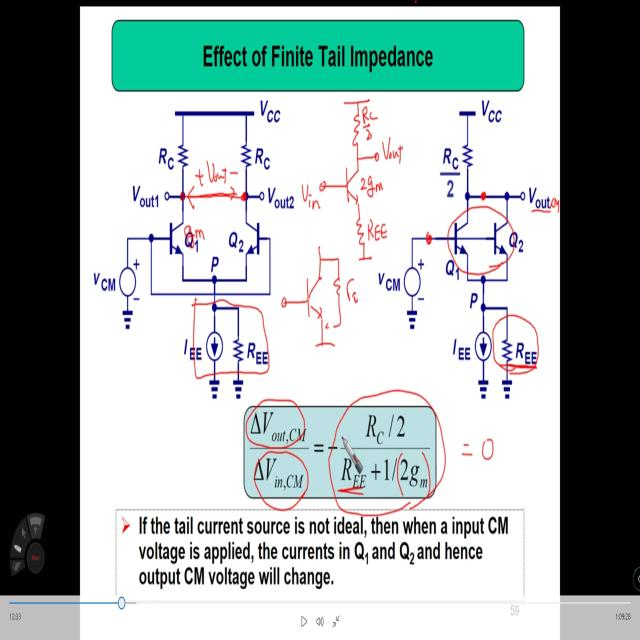panseo: (276, 88, 412, 365), (172, 156, 256, 267)
